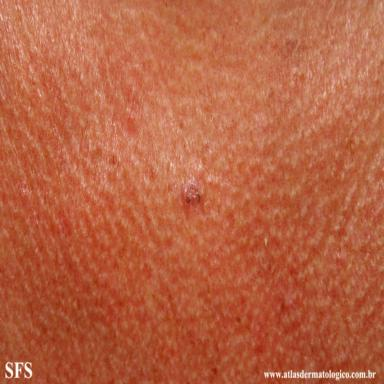basal-cell-carcinoma: (183, 183, 201, 206)
